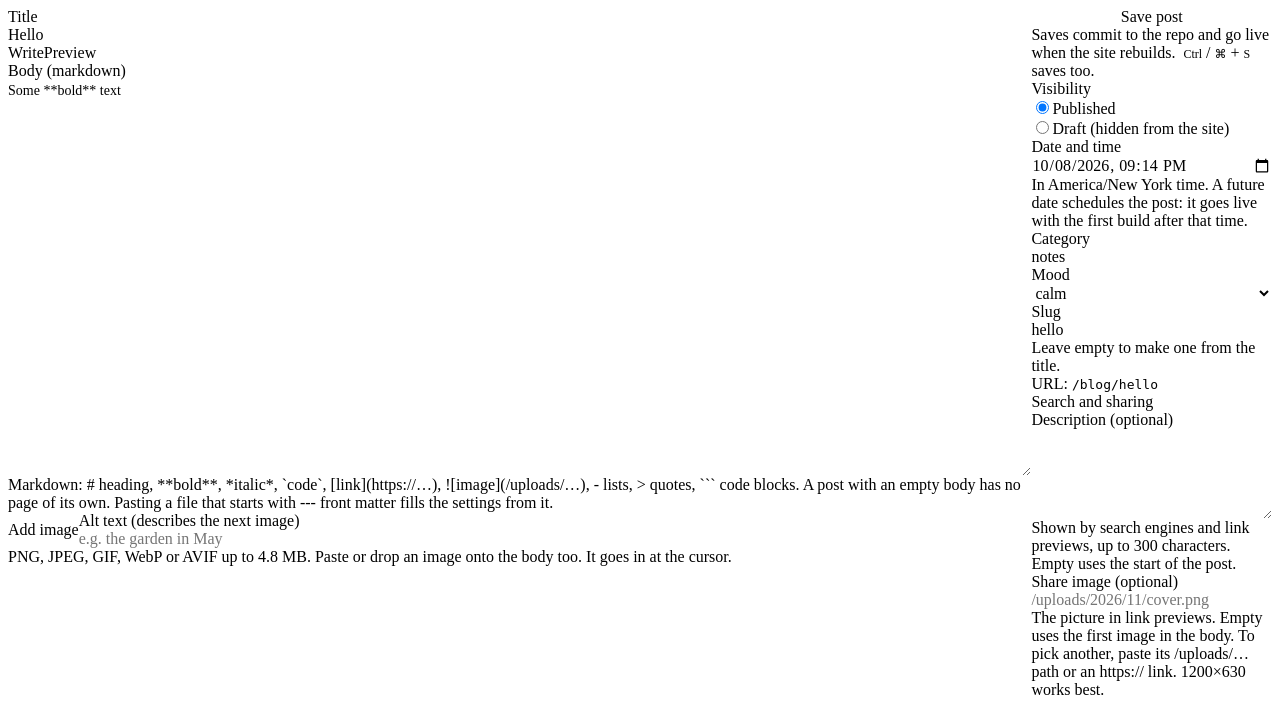
Test case: admin forms are labelled and wire errors with aria-describedby › post form: preview renders the markdown body; the URL follows the title
Expected: the field labelled "Date and time" holds "2026-10-08T21:14", x1=1031 y1=156 x2=1272 y2=176
Expected: the radio button labelled "Published" is checked, x1=1036 y1=101 x2=1049 y2=114
Click the tab "Preview" at (70, 53), box x1=44 y1=44 x2=96 y2=62
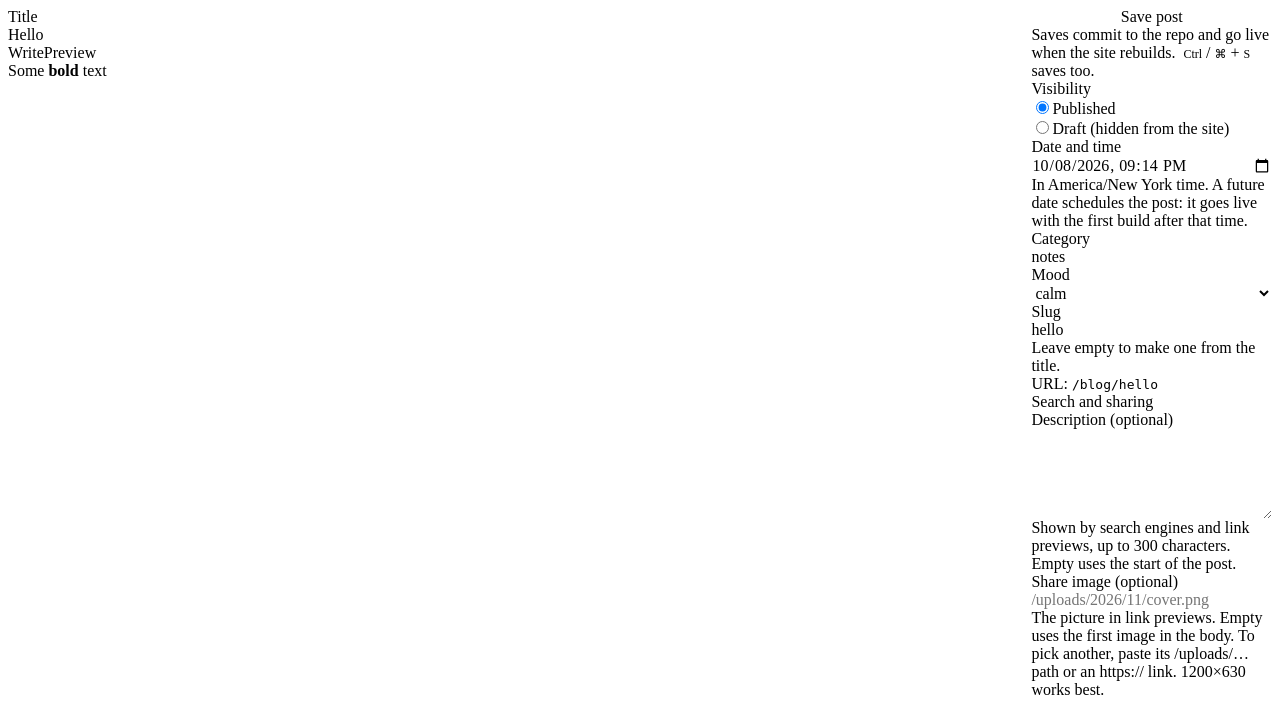
Expected: the text "bold" is shown, x1=48 y1=62 x2=79 y2=79
Expected: the text "/blog/hello" is shown, x1=1072 y1=377 x2=1158 y2=392
Clear the field labelled "Slug" at (1152, 330), box x1=1031 y1=321 x2=1272 y2=339
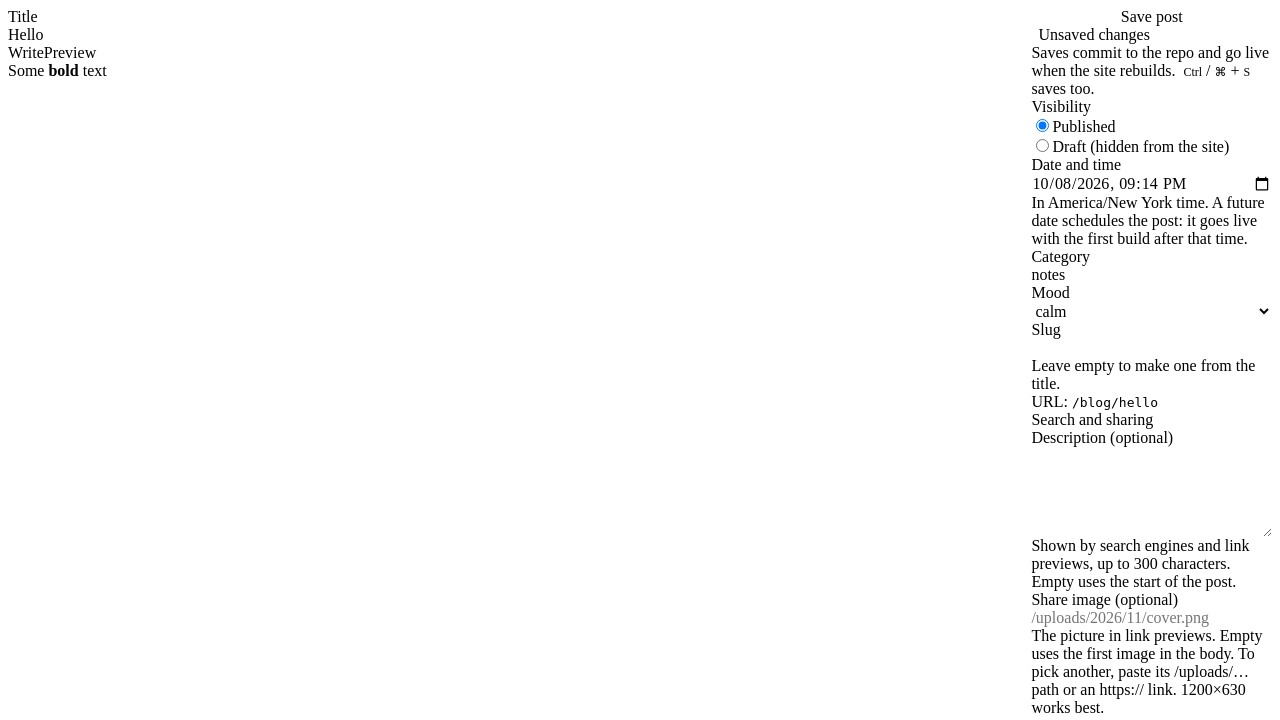
Replace the text in the field labelled "Title" with "New Title!" at (520, 35), box x1=8 y1=26 x2=1031 y2=44
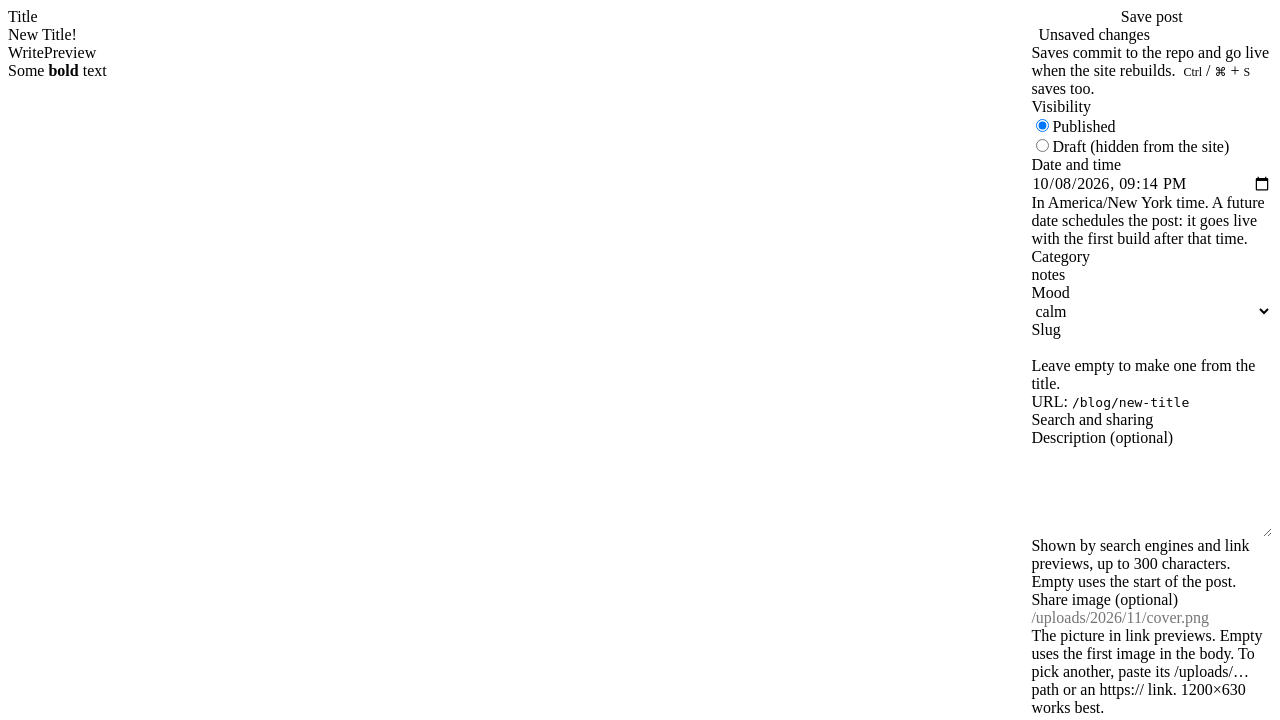
Expected: the element with test id "unsaved" is shown, x1=1038 y1=26 x2=1150 y2=43
Expected: the text "/blog/new-title" is shown, x1=1072 y1=395 x2=1189 y2=410
